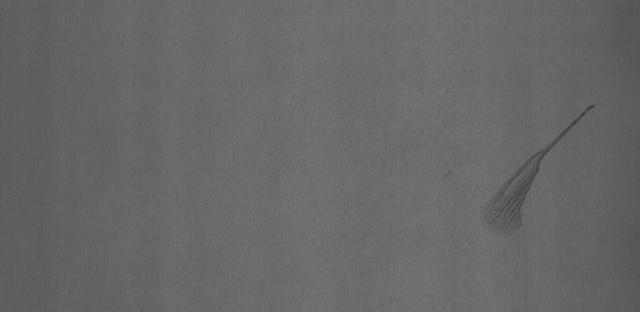water_spot: (480, 87, 598, 249)
